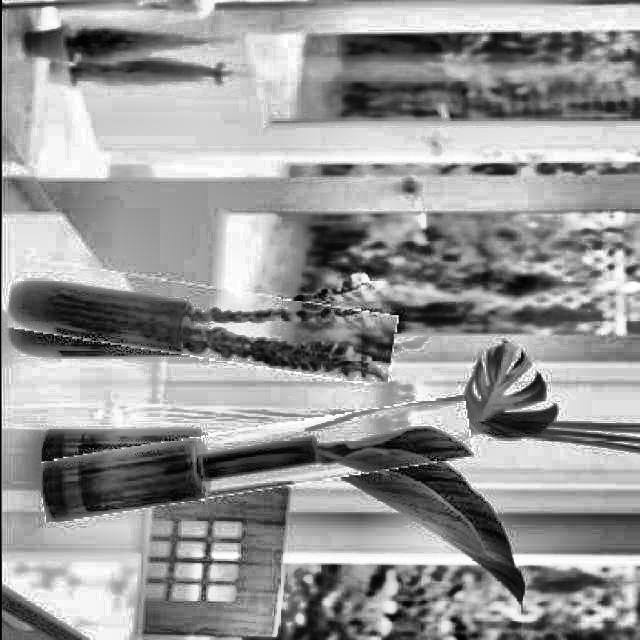plants: (38, 412, 472, 508), (7, 270, 396, 372)
